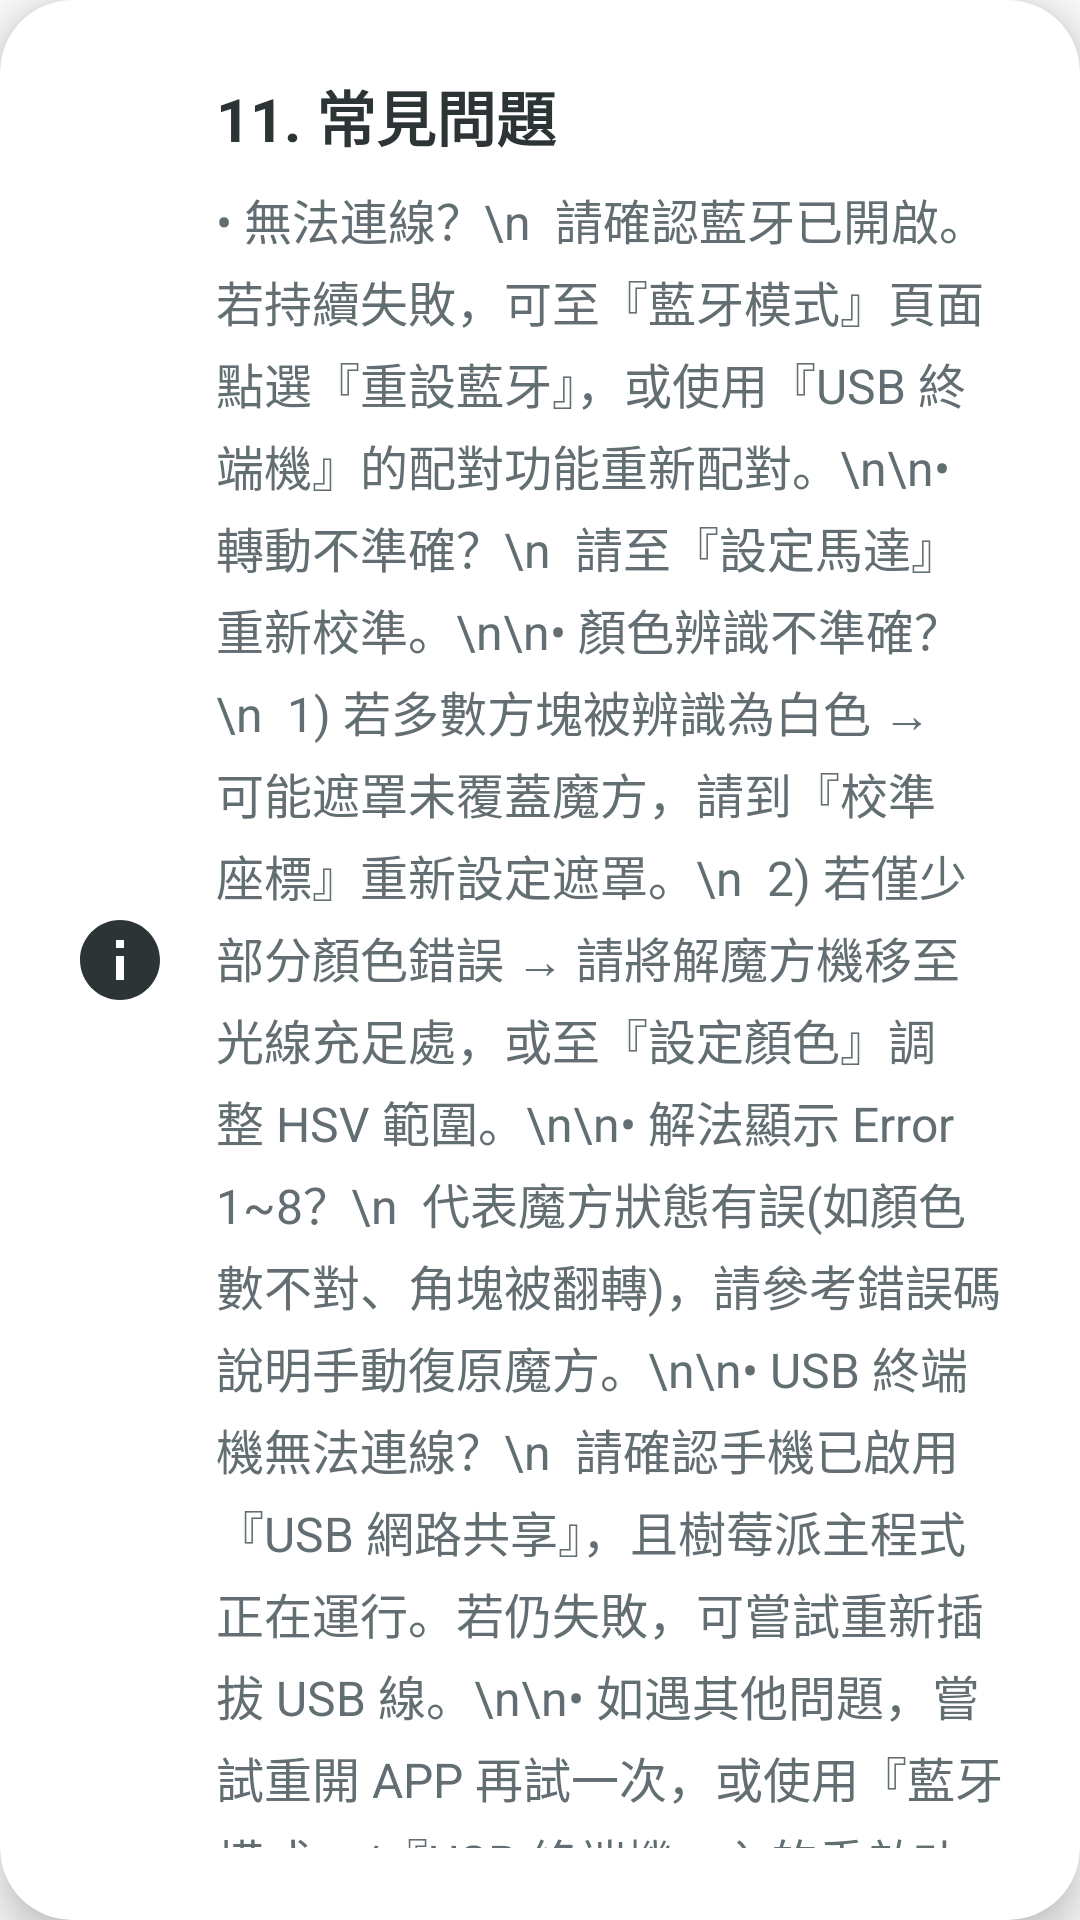

Locate icon controls on the screen. Image size 1080px×1920px, boxes as (x1, y1, x2, y2).
info: (80, 920, 160, 1000)
